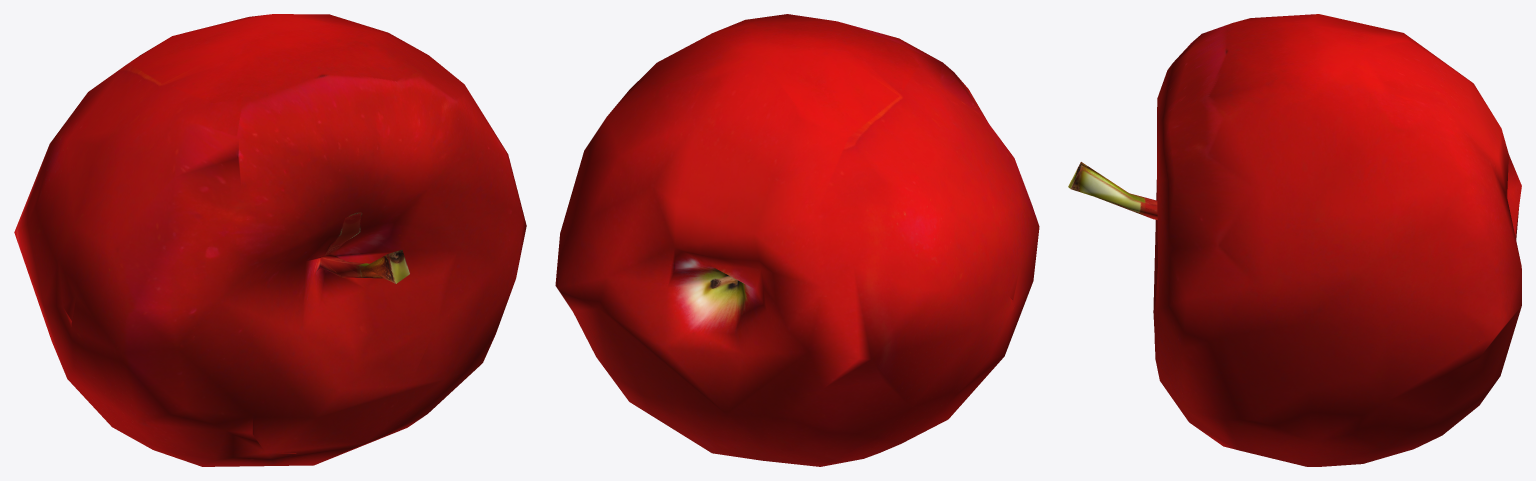
The model's file is Meshy_AI__lowapple_texture.glb.
3 views of the same model, side by side, from view 1: azimuth 30°, elevation 25°; view 2: azimuth 150°, elevation 25°; view 3: azimuth 270°, elevation 25° (orthographic). The views are drawn at different scales.
Size of the model in its own units: 2 by 1.84 by 1.89.
Materials: 1 (1 with a texture image).
